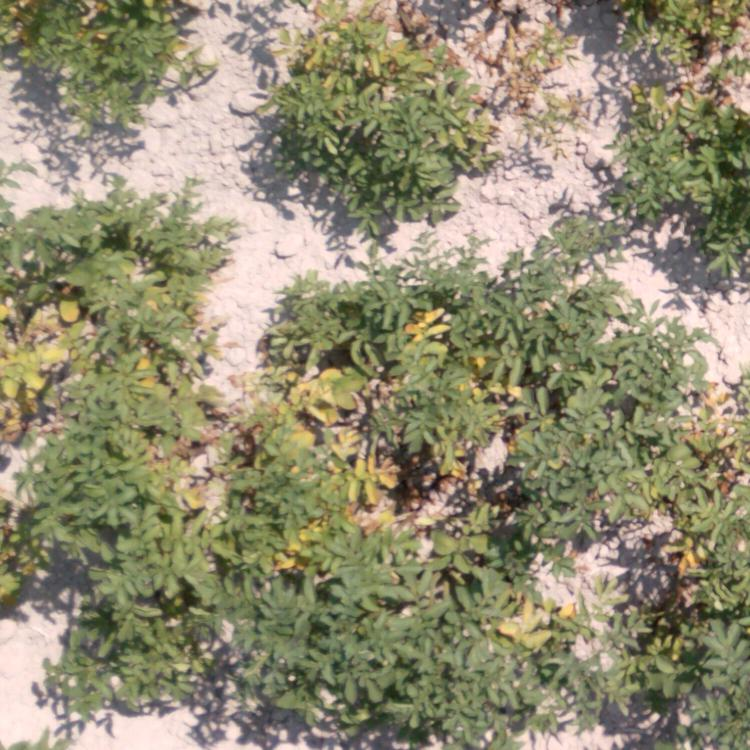healthy: (244, 591, 463, 738), (54, 438, 162, 679), (541, 236, 638, 346), (41, 7, 162, 94), (603, 161, 746, 232), (683, 580, 743, 740)
stressed: (199, 279, 529, 471), (547, 364, 750, 577), (1, 226, 196, 424), (282, 18, 460, 218), (188, 481, 515, 570), (598, 3, 747, 146), (488, 575, 569, 749)
